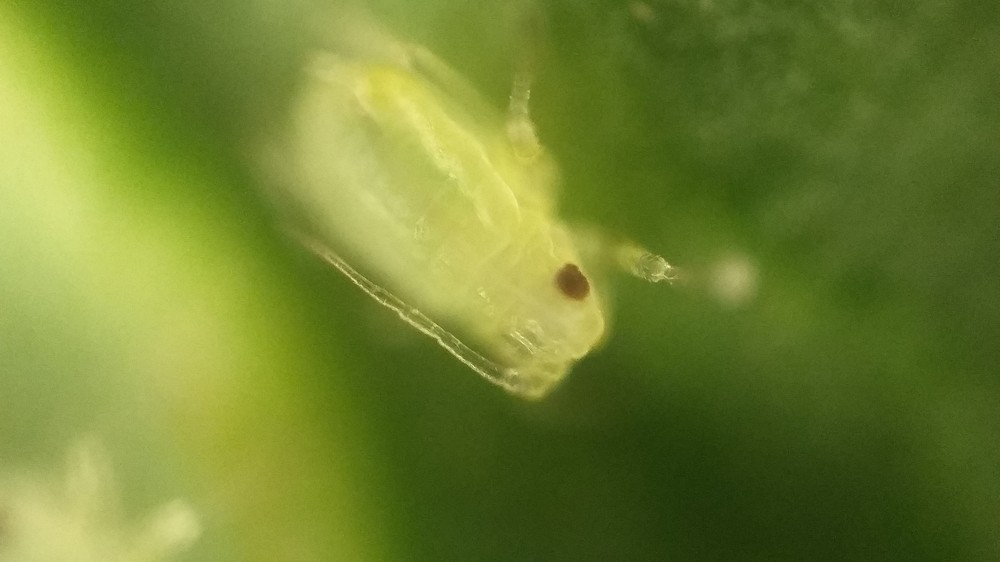Pulgon: (210, 24, 718, 415)
